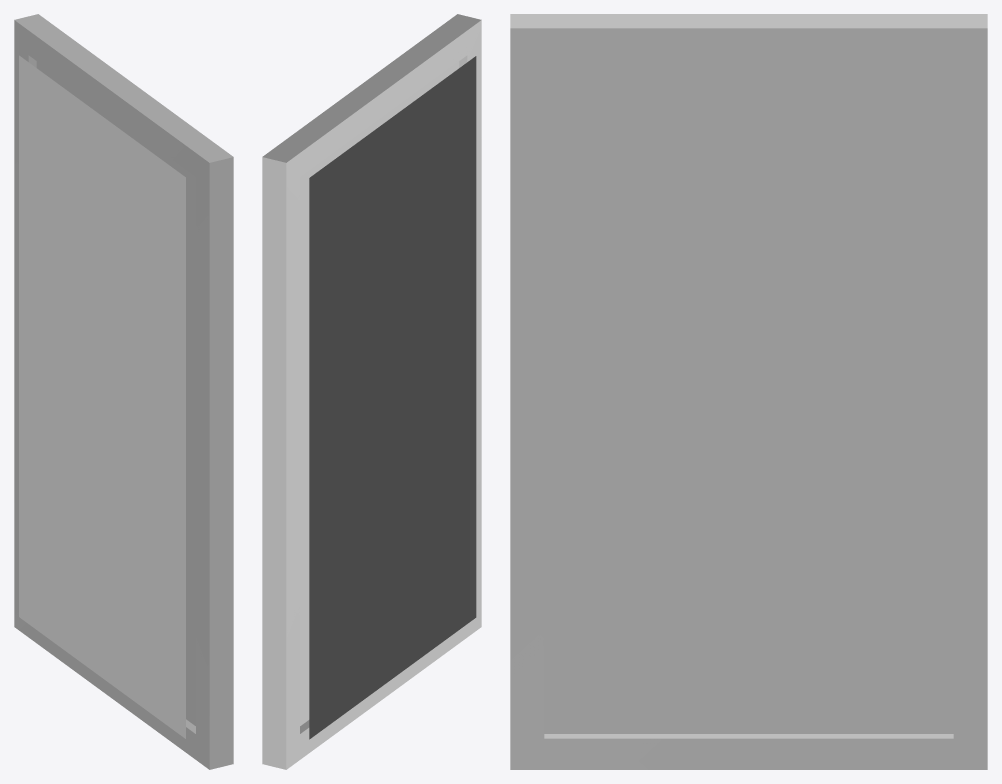
File: Window_3cbe96fc.obj
The picture shows the model from 3 angles, left to right: view 1: azimuth 30°, elevation 25°; view 2: azimuth 150°, elevation 25°; view 3: azimuth 270°, elevation 25°; orthographic projection. The views are drawn at different scales.
Visible parts, largest first — view 1: QuadDecalSpawnPlane_c11cd587, FP312:StandardWindow2_500877bf, FP312:WindowPane_e19fb708; view 2: QuadDecalSpawnPlane_c11cd587, FP312:StandardWindow2_500877bf, FP312:WindowPane_e19fb708; view 3: FP312:WindowPane_e19fb708, FP312:StandardWindow2_500877bf.
Part boxes in pixels (left/top/right/bottom): QuadDecalSpawnPlane_c11cd587: left=19, top=55, right=185, bottom=738; FP312:StandardWindow2_500877bf: left=14, top=14, right=233, bottom=769; FP312:WindowPane_e19fb708: left=36, top=61, right=195, bottom=725; QuadDecalSpawnPlane_c11cd587: left=309, top=56, right=476, bottom=739; FP312:StandardWindow2_500877bf: left=262, top=14, right=481, bottom=769; FP312:WindowPane_e19fb708: left=300, top=61, right=459, bottom=725; FP312:WindowPane_e19fb708: left=544, top=59, right=953, bottom=733; FP312:StandardWindow2_500877bf: left=510, top=14, right=987, bottom=769.
Size of the model in its own units: 0.069 by 1.2 by 0.7.
